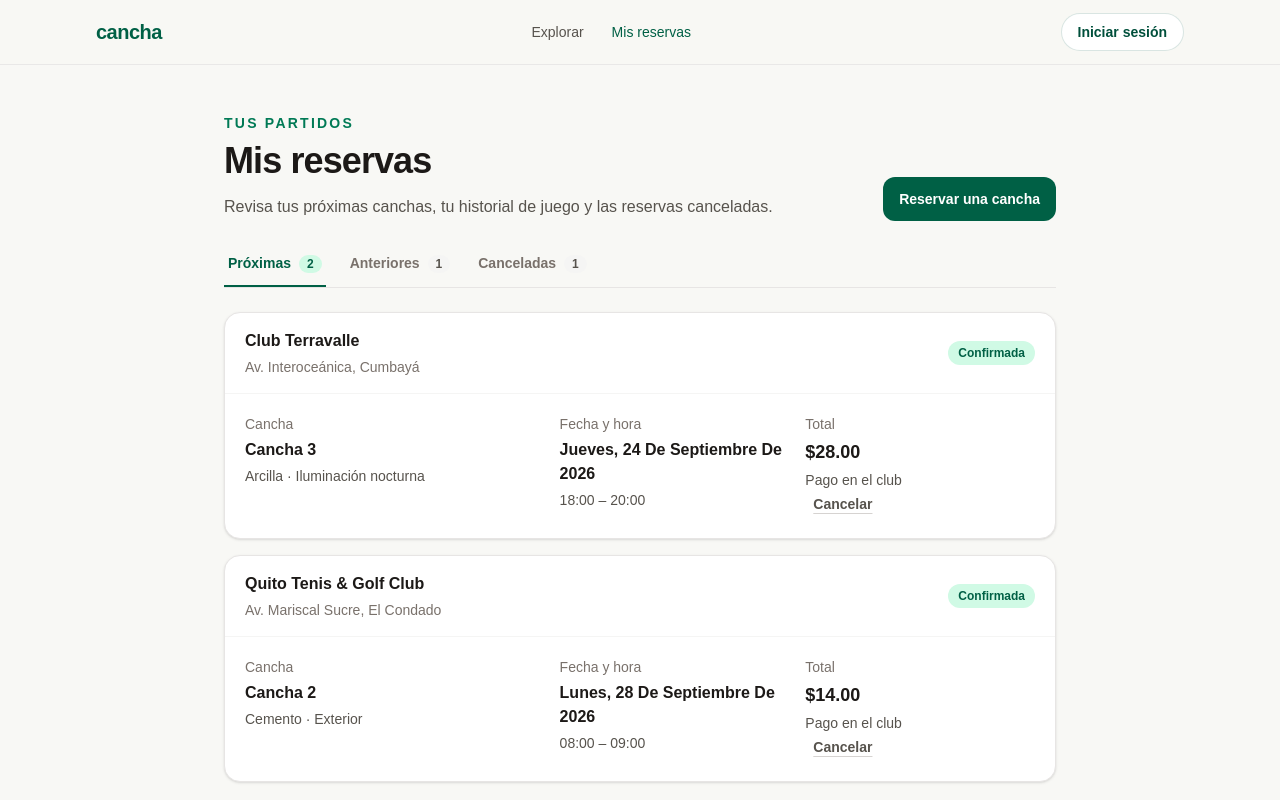
Scenario: ReservationsPage › shows upcoming reservations by default and allows viewing every state
Expected: the heading "Club Terravalle" is shown, top-left (245, 332), bottom-right (359, 349)
Expected: the heading "Club Rancho San Francisco" is not shown
Click the tab "Anteriores 1". click: (400, 270)
box: top-left (346, 253), bottom-right (454, 287)
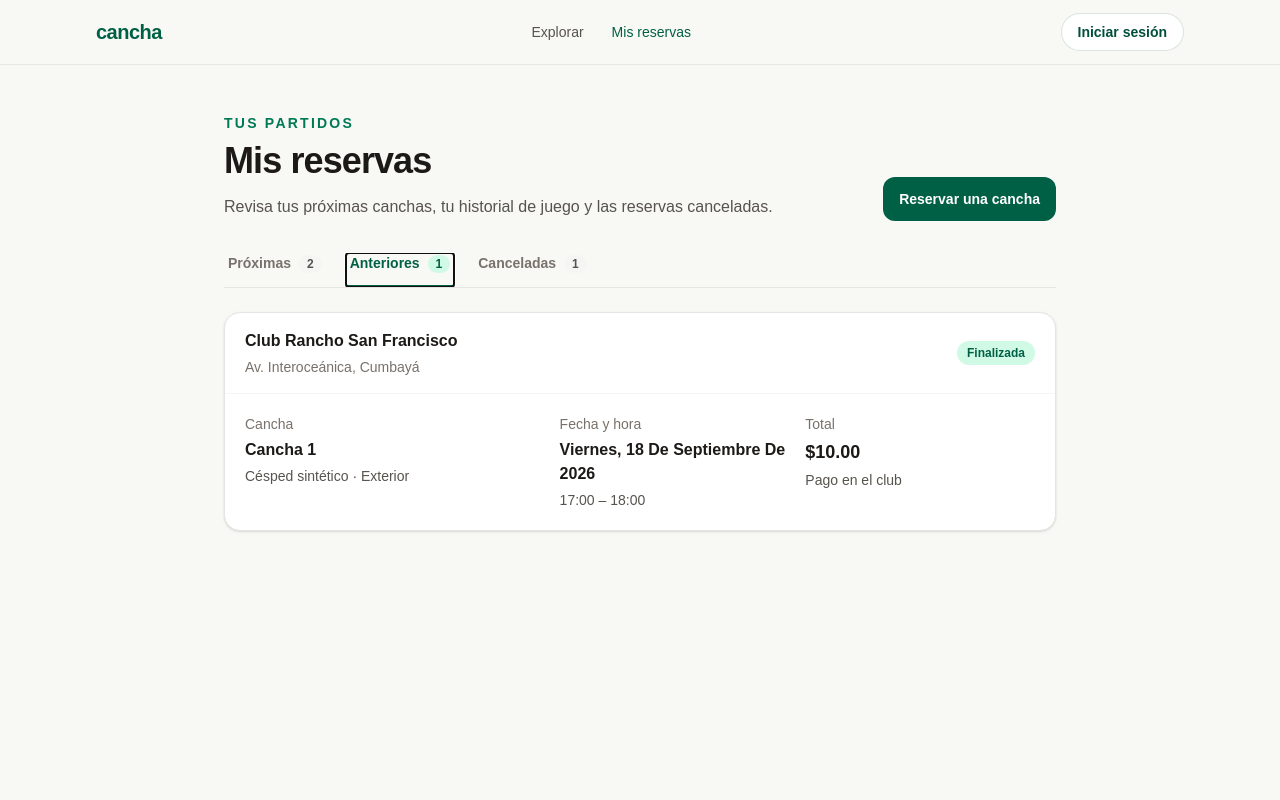
Expected: the heading "Club Rancho San Francisco" is shown, top-left (245, 329), bottom-right (458, 353)
Click the tab "Canceladas 1". click: (532, 270)
box: top-left (474, 253), bottom-right (591, 287)
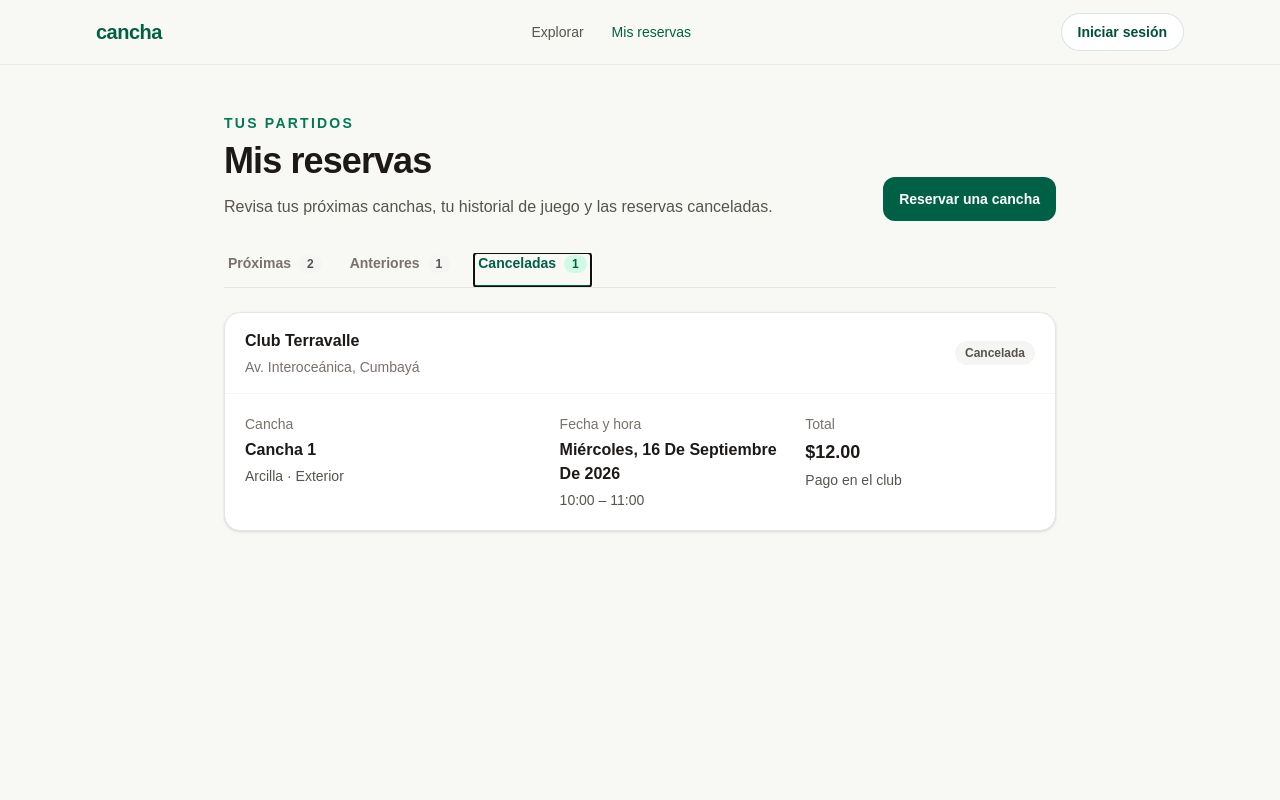
Expected: the heading "Club Terravalle" is shown, top-left (245, 332), bottom-right (359, 349)
Expected: the text "Cancelada" is shown, top-left (955, 341), bottom-right (1035, 365)
